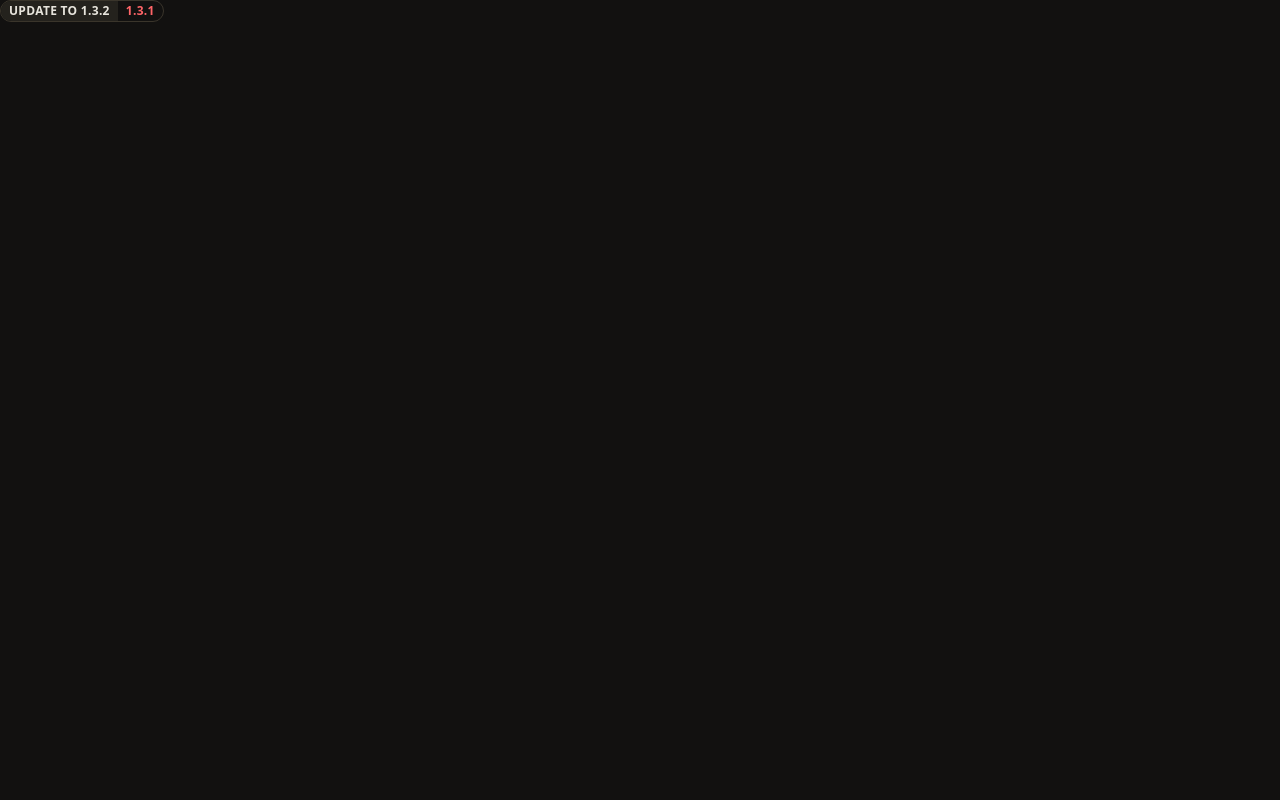
UpdateButton › still says why an update failed beside the release it failed on
Click the button "Update to 1.3.2 1.3.1": (82, 11) [0,0,164,22]
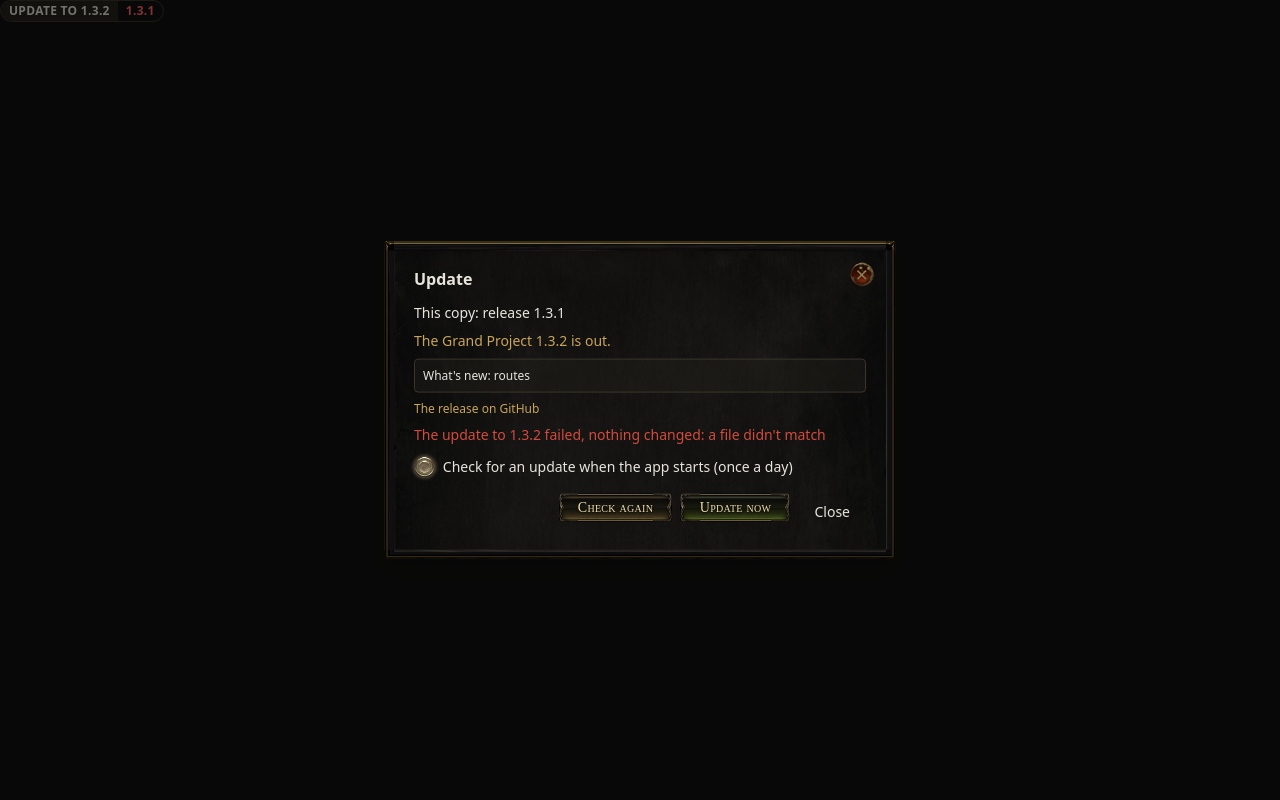
Expected: the text "The update to 1.3.2 failed, nothing changed: a file didn't match" is shown, [414,425,866,445]
